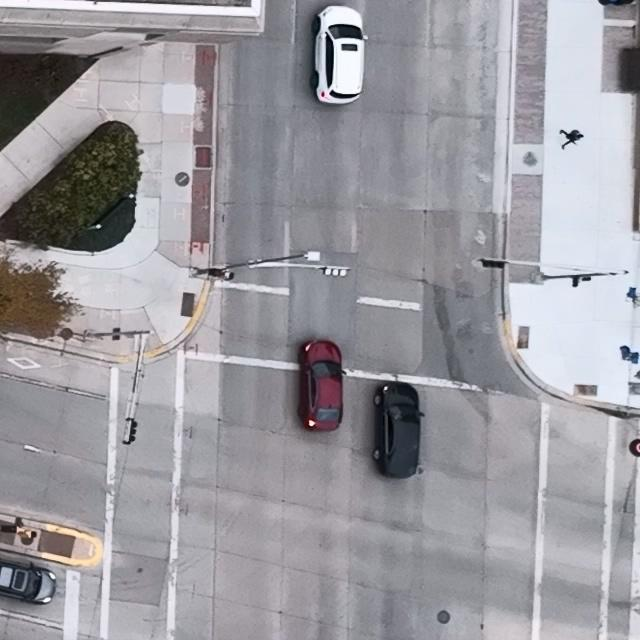car: (312, 5, 368, 106), (373, 381, 425, 479), (298, 339, 347, 432), (0, 561, 56, 605)
